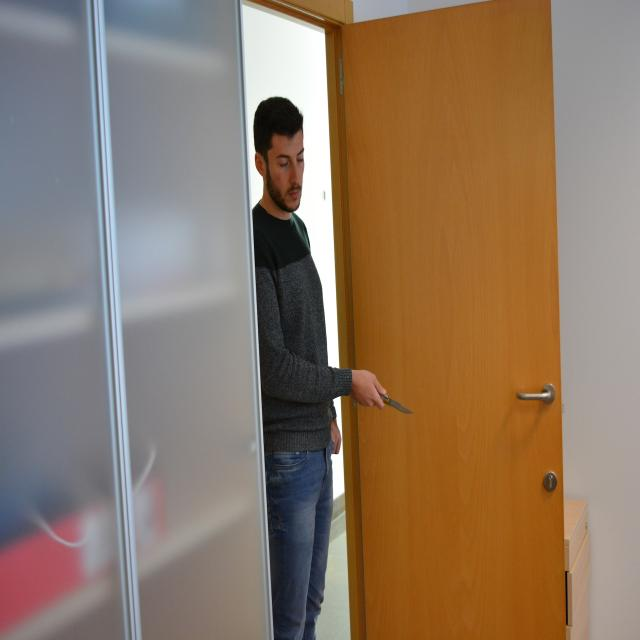knife: (384, 395, 416, 419)
